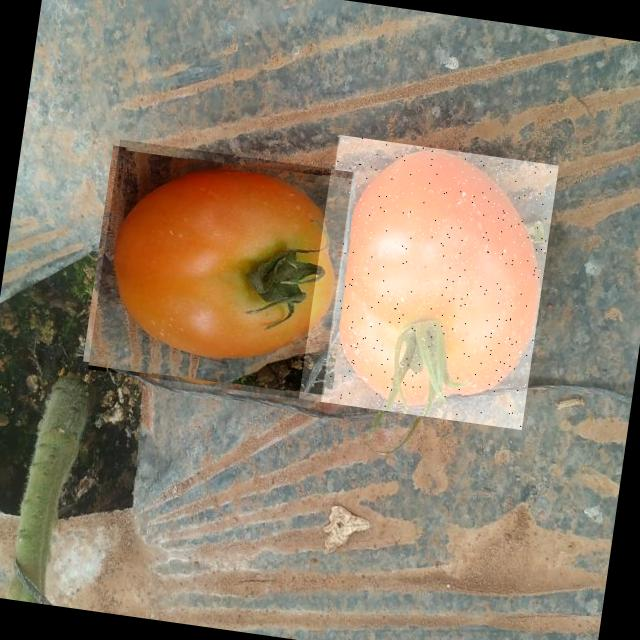Ripe Tomato: (300, 134, 558, 430), (88, 140, 351, 402)
